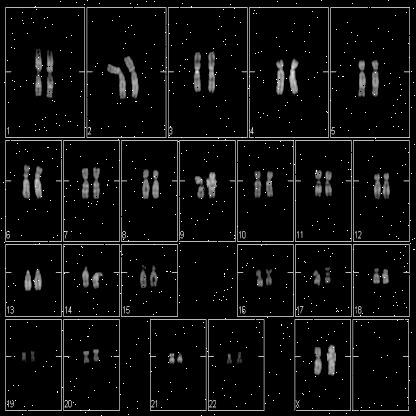1: (32, 46, 44, 98), (44, 47, 55, 101)
10: (264, 168, 274, 200), (253, 167, 262, 200)
11: (314, 166, 324, 198), (324, 167, 332, 200)
12: (372, 171, 382, 200), (382, 171, 391, 201)
13: (32, 266, 43, 294), (25, 270, 32, 292)
14: (80, 263, 90, 289), (91, 270, 104, 290)
15: (148, 263, 158, 289), (139, 262, 148, 290)
16: (254, 266, 264, 289), (264, 266, 273, 288)
17: (323, 264, 332, 286), (312, 268, 321, 288)
18: (381, 266, 390, 286), (372, 265, 380, 285)
19: (30, 346, 36, 366), (20, 348, 26, 366)
2: (104, 61, 128, 100), (122, 54, 140, 100)
20: (82, 348, 90, 366), (92, 346, 100, 362)
21: (176, 350, 184, 367), (168, 351, 175, 367)
22: (235, 348, 244, 366), (224, 351, 232, 366)
3: (192, 49, 202, 95), (207, 49, 216, 93)
4: (288, 56, 300, 96), (272, 58, 284, 96)
5: (356, 58, 368, 100), (370, 58, 380, 99)
6: (34, 163, 42, 202), (23, 162, 30, 202)
7: (90, 164, 102, 200), (80, 166, 90, 202)
8: (151, 167, 161, 202), (141, 167, 150, 202)
9: (206, 170, 218, 201), (193, 172, 205, 200)
X: (326, 342, 338, 380), (314, 346, 322, 378)
